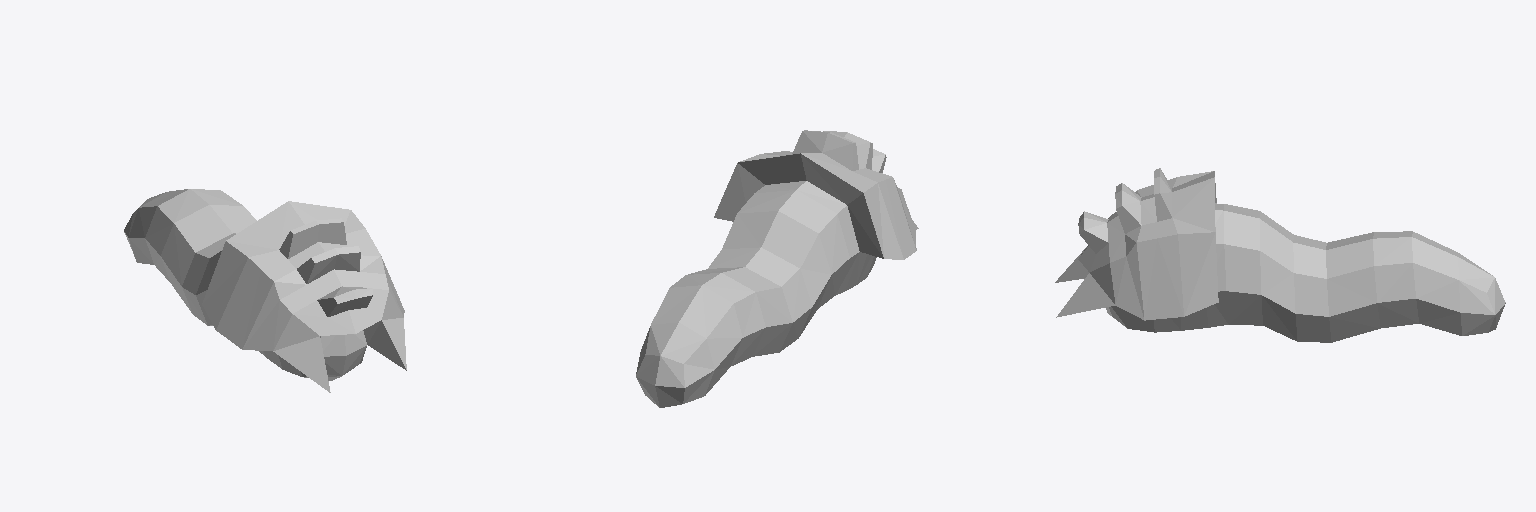
The model's file is gh_larva.obj.
3 renders of one model, left to right at view 1: azimuth 30°, elevation 25°; view 2: azimuth 150°, elevation 25°; view 3: azimuth 270°, elevation 25°, orthographic.
Parts seen in each view (by area): view 1: larva; view 2: larva; view 3: larva.
Part boxes in pixels (bbox=[...]): larva: bbox=[124, 189, 406, 392]; larva: bbox=[636, 130, 918, 407]; larva: bbox=[1055, 168, 1505, 342].
Size of the model in its own units: 0.3014 by 0.2595 by 0.669.